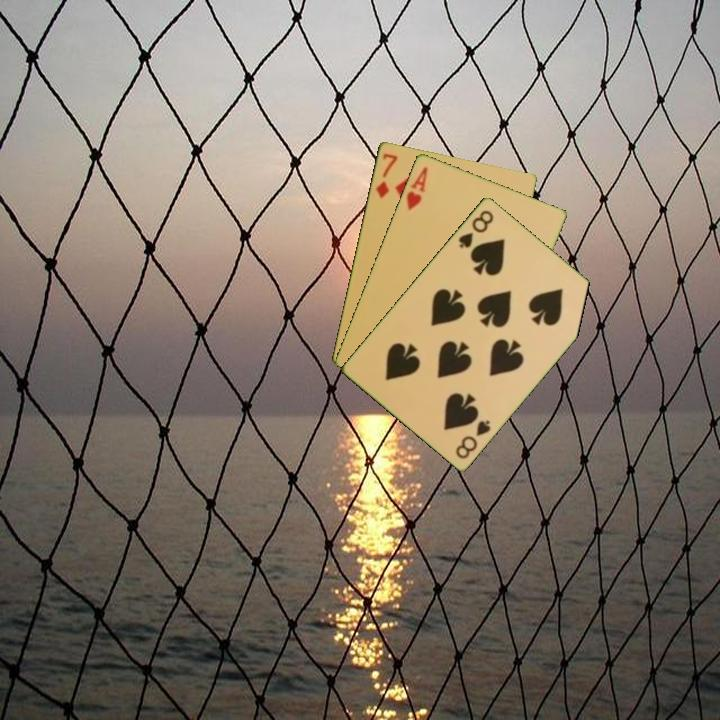7d: (372, 149, 400, 201)
8s: (452, 416, 494, 462), (455, 206, 496, 251)
Ah: (402, 163, 430, 213)
